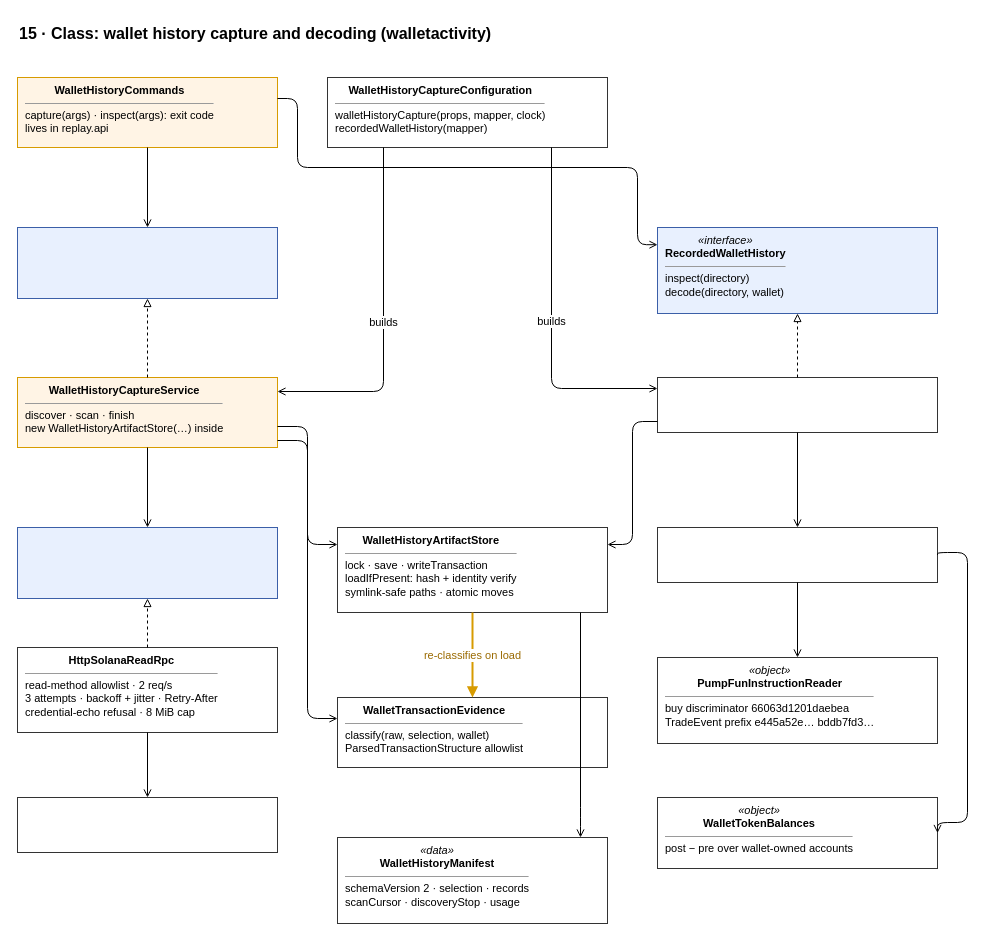
Image size: 993x941. Some labels were removed from this diagram. Here are the shapes that lost their labels. From the top down, the centre of each, then its label:
the point at 147,262: «interface» WalletHistoryCapture capture(request): WalletHistoryCaptureResult
the point at 797,404: RecordedWalletHistoryService verify twice · decode UNCLASSIFIED
the point at 147,562: «fun interface» SolanaReadRpc call(method, params, budget)
the point at 797,554: PumpFunBuyDecoder decode(json, wallet): PumpFunBuyDecoding
the point at 147,824: CaptureBudget requests · bytes · operation deadline
